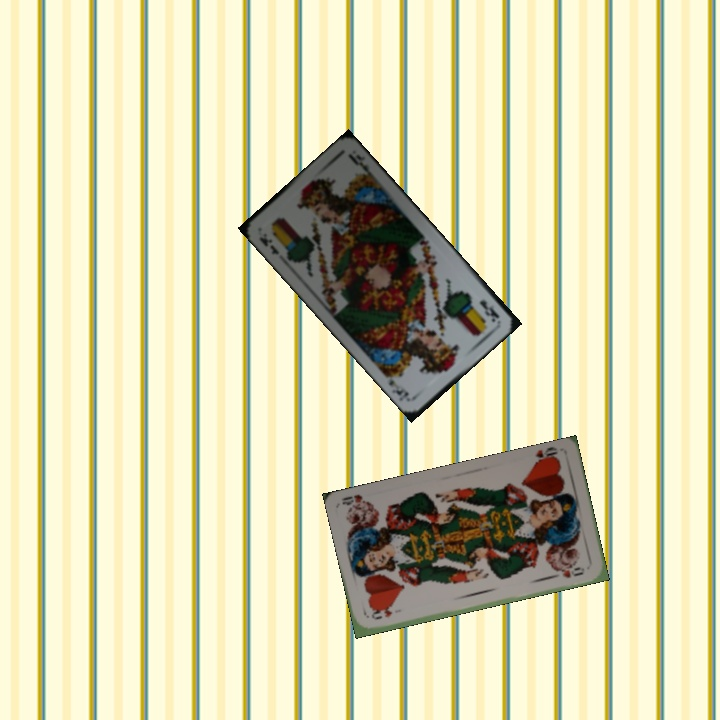EK: (475, 296, 502, 324), (255, 233, 282, 257)
HO: (527, 443, 562, 469), (367, 606, 395, 622)
